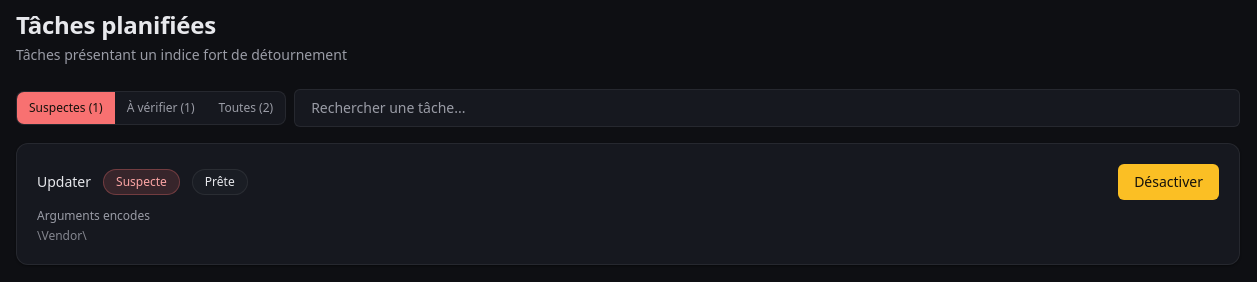
Test: TasksPage niveaux de signalement › présente une tâche d'utilisateur comme à vérifier, pas comme suspecte
Step 1. Click the button "À vérifier (1)" → (161, 108), box [115,92,207,124]
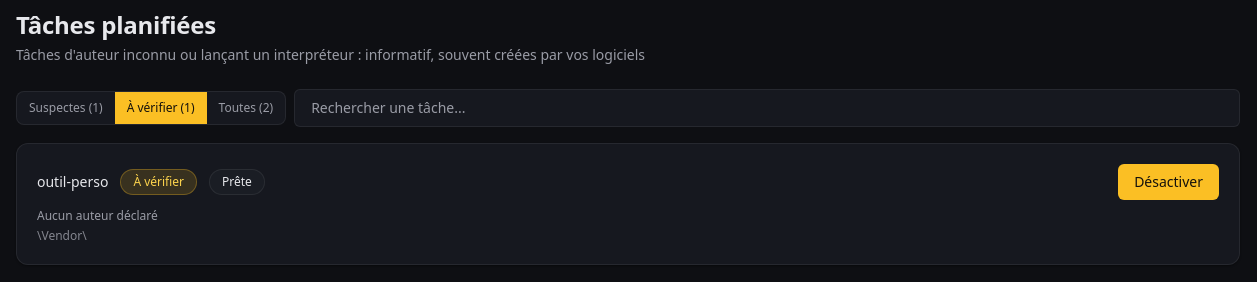
Check: the text "outil-perso" is shown, box [37,172,108,192]
Check: the text "À vérifier" is shown, box [120,169,197,195]
